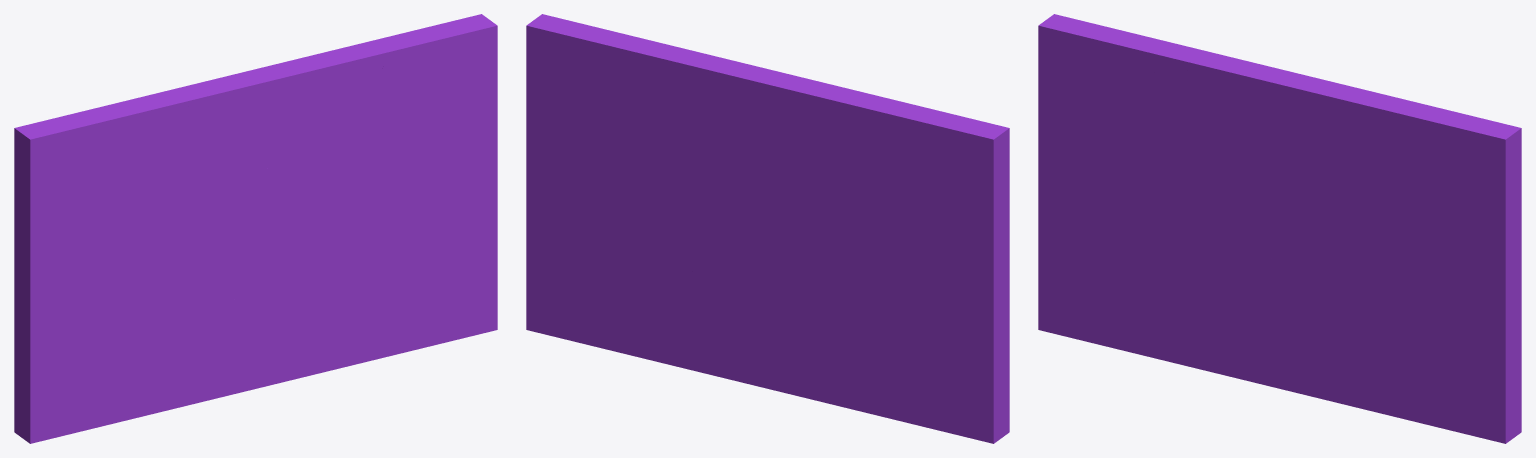
Rendered from Barrier_111_chunks.fbx.
The picture shows the model from 3 angles, left to right: view 1: azimuth 30°, elevation 25°; view 2: azimuth 150°, elevation 25°; view 3: azimuth 330°, elevation 25°; orthographic projection.
Visible parts, largest first — view 1: Barrier_111_0, Barrier_111_1, Barrier_111_7, Barrier_111_9, Barrier_111_3, Barrier_111_5, Barrier_111_6, Barrier_111_4, Barrier_111_8; view 2: Barrier_111_0, Barrier_111_1, Barrier_111_6, Barrier_111_7, Barrier_111_5, Barrier_111_3, Barrier_111_8, Barrier_111_4, Barrier_111_2; view 3: Barrier_111_1, Barrier_111_0, Barrier_111_7, Barrier_111_9, Barrier_111_3, Barrier_111_5, Barrier_111_6, Barrier_111_4, Barrier_111_8.
Part boxes in pixels (x1,y1,x2,y2): Barrier_111_0: [14, 115, 264, 443]; Barrier_111_1: [263, 14, 497, 358]; Barrier_111_7: [270, 30, 416, 185]; Barrier_111_9: [142, 77, 281, 184]; Barrier_111_3: [152, 309, 276, 413]; Barrier_111_5: [266, 284, 379, 383]; Barrier_111_6: [68, 64, 276, 131]; Barrier_111_4: [227, 257, 294, 315]; Barrier_111_8: [218, 168, 288, 216]; Barrier_111_0: [780, 106, 1009, 443]; Barrier_111_1: [526, 14, 740, 348]; Barrier_111_6: [733, 69, 940, 191]; Barrier_111_7: [591, 38, 758, 199]; Barrier_111_5: [603, 256, 756, 383]; Barrier_111_3: [748, 300, 911, 423]; Barrier_111_8: [717, 159, 846, 238]; Barrier_111_4: [709, 229, 822, 301]; Barrier_111_2: [729, 278, 812, 334]; Barrier_111_1: [1272, 112, 1521, 443]; Barrier_111_0: [1038, 14, 1272, 359]; Barrier_111_7: [1278, 77, 1456, 197]; Barrier_111_9: [1151, 69, 1289, 170]; Barrier_111_3: [1160, 291, 1284, 389]; Barrier_111_5: [1274, 300, 1387, 414]; Barrier_111_6: [1108, 27, 1313, 84]; Barrier_111_4: [1236, 258, 1302, 316]; Barrier_111_8: [1226, 162, 1296, 215].
Size of the model in its own units: 462 by 288 by 27.2.
